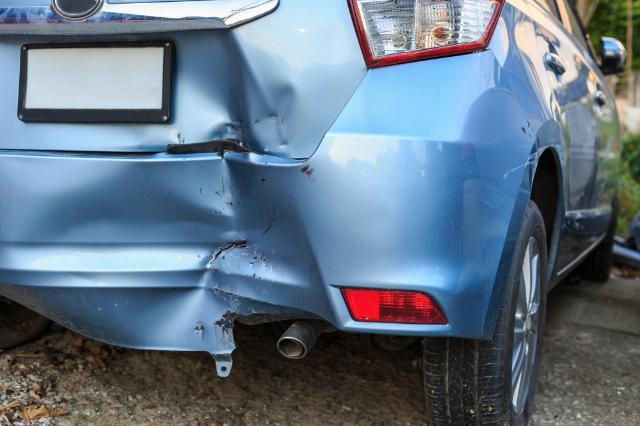dent: (19, 160, 330, 352), (182, 32, 304, 159)
